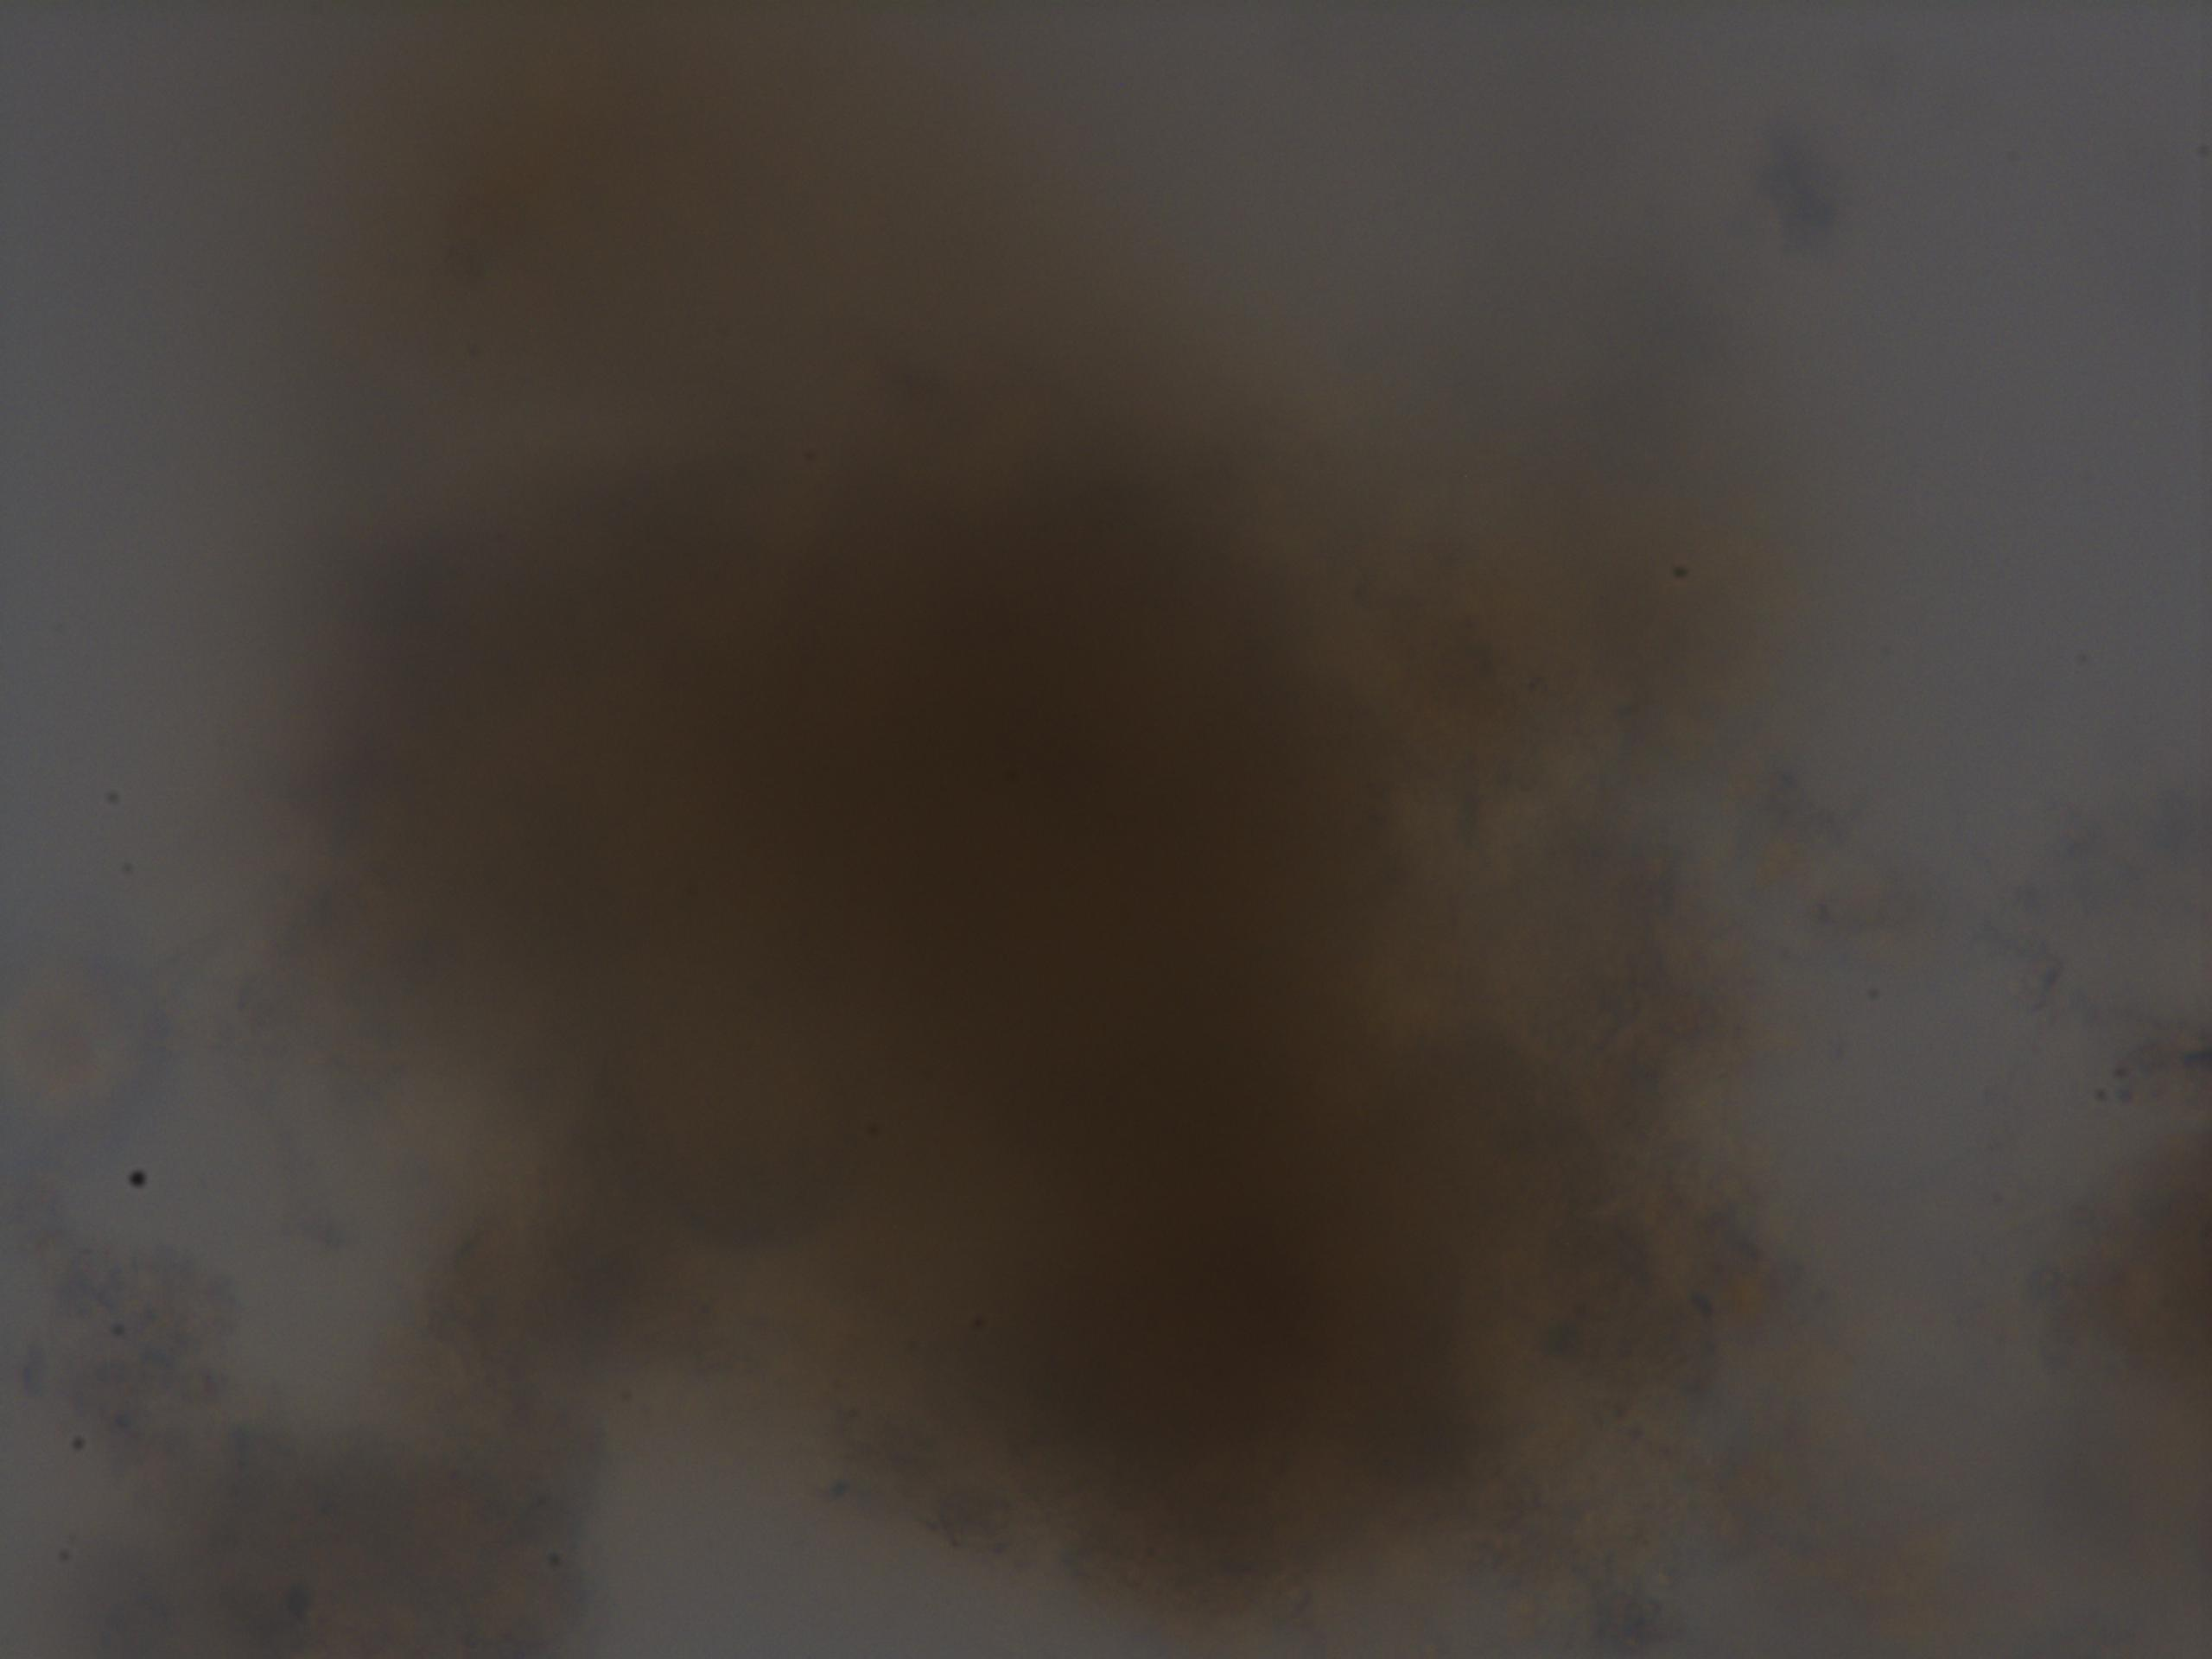spherical_floc: (280, 371, 1743, 1621)
